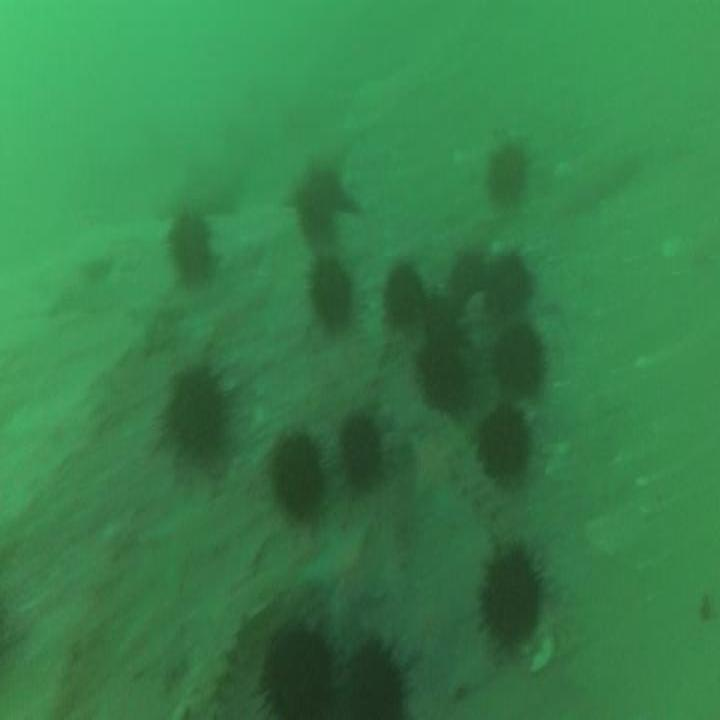echinus: (163, 372, 225, 466), (264, 634, 329, 720), (481, 548, 538, 642), (478, 407, 528, 489), (352, 642, 404, 720), (271, 436, 321, 516), (491, 327, 544, 400), (297, 169, 343, 245), (338, 412, 383, 489), (419, 341, 467, 411), (482, 251, 532, 311), (168, 218, 212, 282), (312, 261, 352, 327), (385, 263, 421, 329), (488, 149, 528, 199), (425, 288, 458, 345), (448, 250, 485, 300)
holothurian: (439, 430, 517, 544), (557, 144, 642, 213), (361, 259, 385, 377)
starfish: (304, 521, 387, 626), (408, 434, 453, 490)
